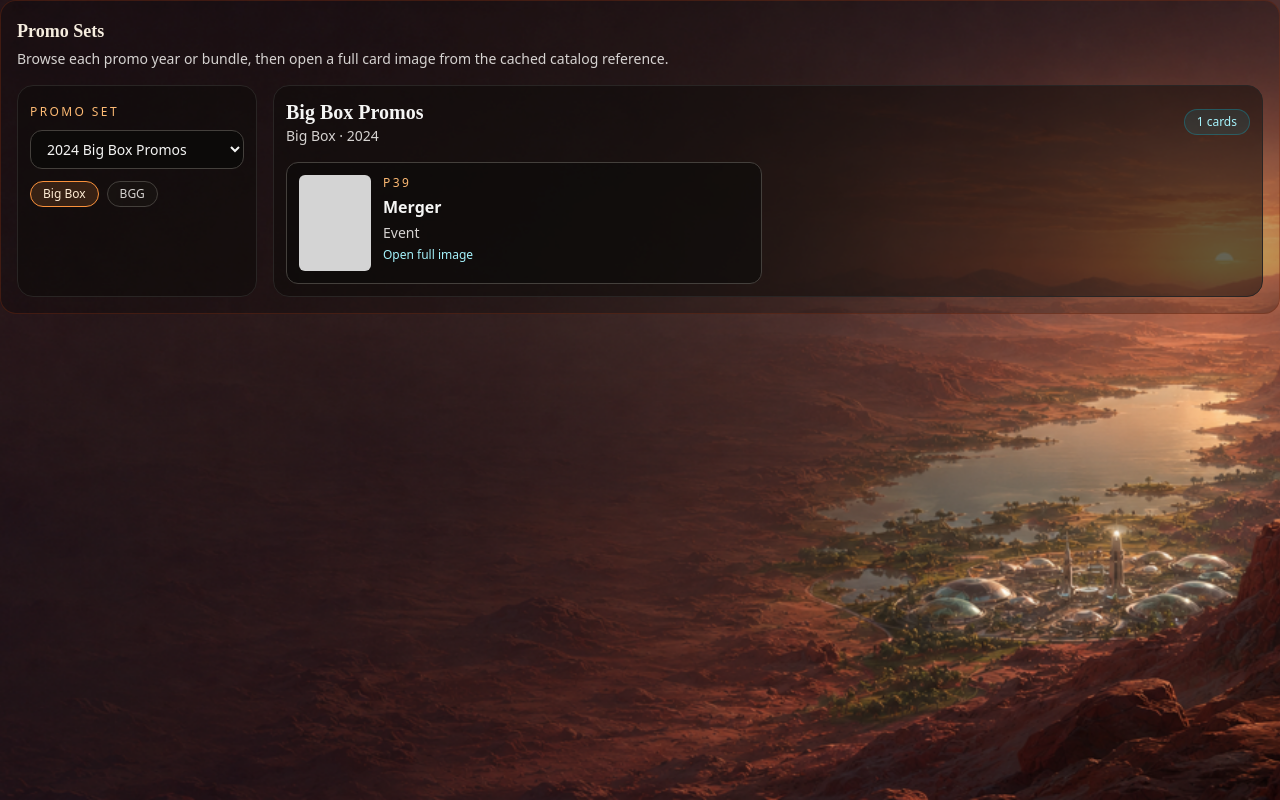
Test case: PromoSetBrowser › switches between promo sets and shows the cards for the active set
Expected: the heading "Merger" is shown, [383, 196, 442, 218]
Select "2025 BoardGameGeek Pack" in the dropdown labelled "Promo Set" at (137, 150), box [30, 130, 244, 169]
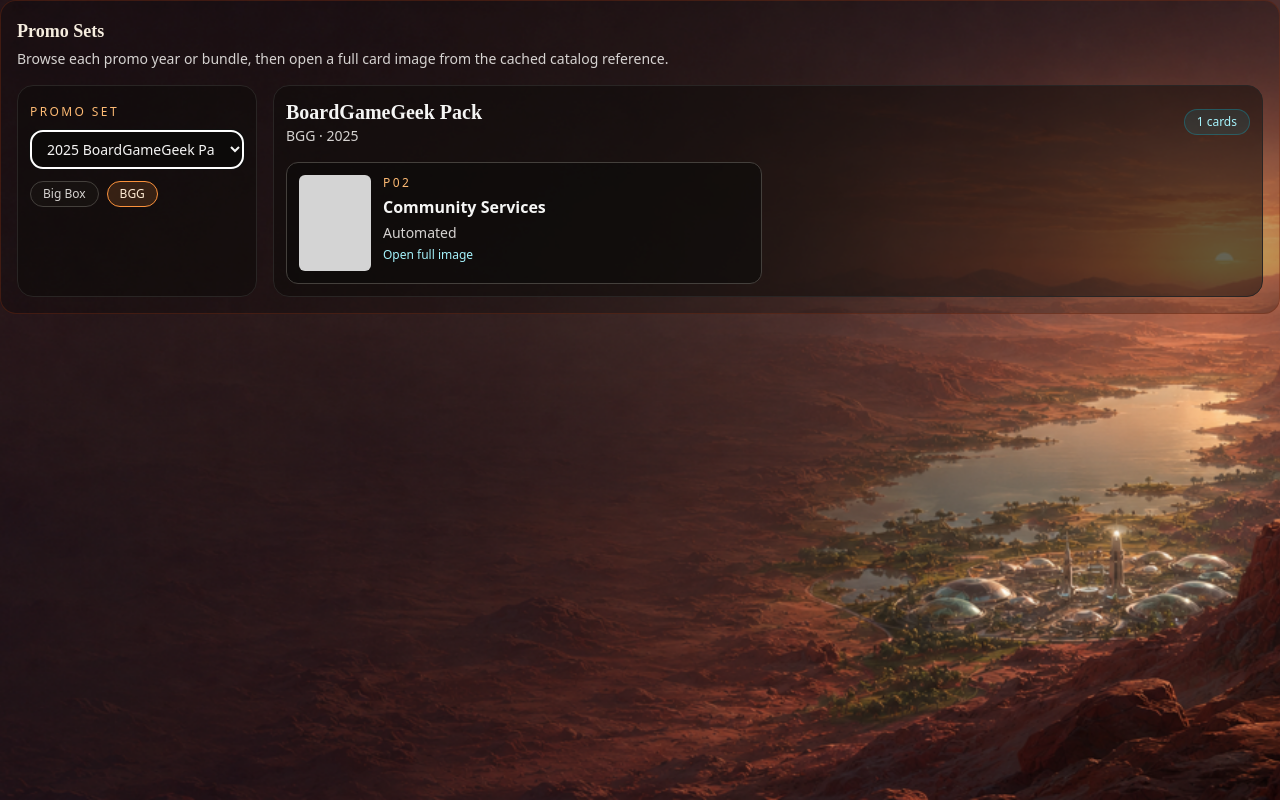
Now the heading "BoardGameGeek Pack" is shown, box [286, 98, 482, 126]
Now the heading "Community Services" is shown, box [383, 196, 546, 218]
Now the link "Merger" is gone
